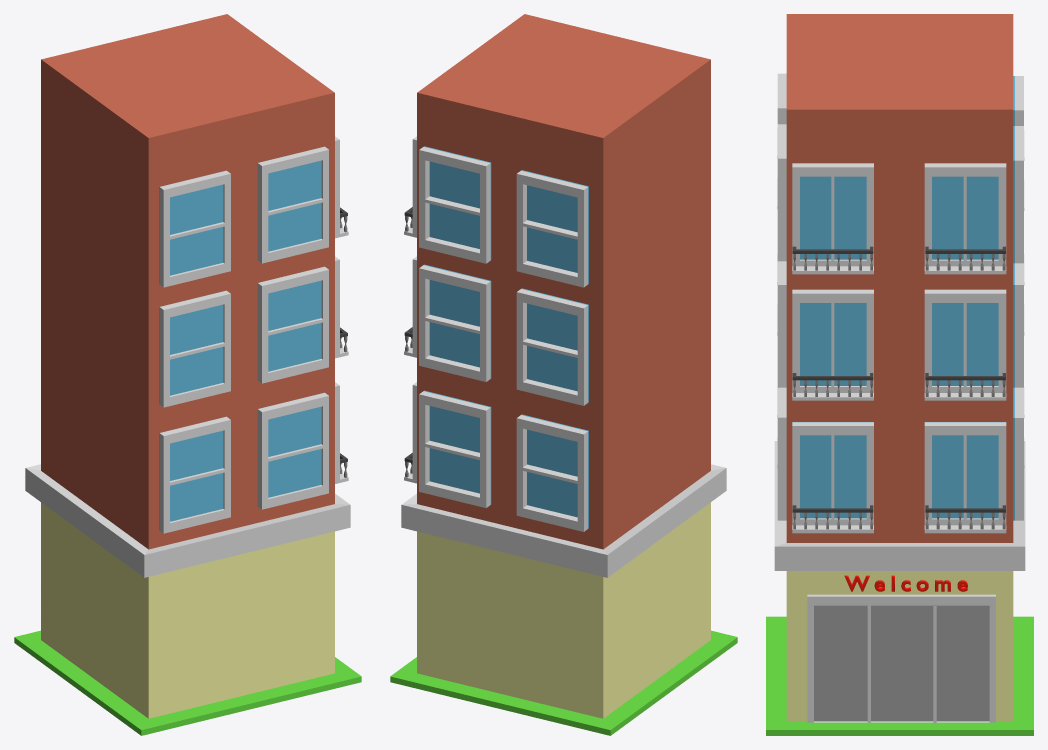
The model's file is Building5.glb.
3 renders of one model, left to right at view 1: azimuth 30°, elevation 25°; view 2: azimuth 150°, elevation 25°; view 3: azimuth 270°, elevation 25°, orthographic. The views are drawn at different scales.
Visible parts, largest first — view 1: Building, Cube.040, Cube.037, Cube.038, Cube.039, Cube.018, Cube.036, Cube.003, Cube.009, Cube.019; view 2: Building, Cube.024, Cube.022, Cube.027, Cube.023, Cube.026, Cube.025, Cube.003; view 3: Building, Cube.028, Cube.005, Cube.020, Cube.010, Cube, Cube.019, Cube.009, Cube.003, Cube.027, Cube.025, Cube.023 (+11 smaller).
Part boxes in pixels (x1,y1,x2,y2): Building: [25, 14, 350, 718]; Cube.040: [159, 170, 230, 287]; Cube.037: [257, 266, 328, 383]; Cube.038: [159, 290, 230, 407]; Cube.039: [257, 146, 328, 263]; Cube.018: [257, 392, 328, 509]; Cube.036: [159, 416, 230, 533]; Cube.003: [14, 630, 361, 735]; Cube.009: [335, 256, 348, 358]; Cube.019: [335, 136, 348, 238]; Building: [401, 14, 726, 718]; Cube.024: [516, 414, 588, 531]; Cube.022: [516, 288, 588, 405]; Cube.027: [419, 146, 491, 263]; Cube.023: [419, 264, 491, 381]; Cube.026: [516, 170, 588, 287]; Cube.025: [419, 390, 491, 507]; Cube.003: [390, 630, 737, 735]; Building: [774, 14, 1025, 720]; Cube.028: [807, 594, 995, 722]; Cube.005: [924, 422, 1006, 533]; Cube.020: [924, 163, 1006, 274]; Cube.010: [924, 289, 1006, 400]; Cube: [792, 422, 873, 533]; Cube.019: [792, 163, 873, 274]; Cube.009: [792, 289, 873, 400]; Cube.003: [766, 616, 1033, 735]; Cube.027: [1013, 126, 1024, 263]; Cube.025: [1013, 387, 1024, 520]; Cube.023: [1013, 263, 1024, 387].
Size of the model in its own units: 12 by 30.52 by 12.
